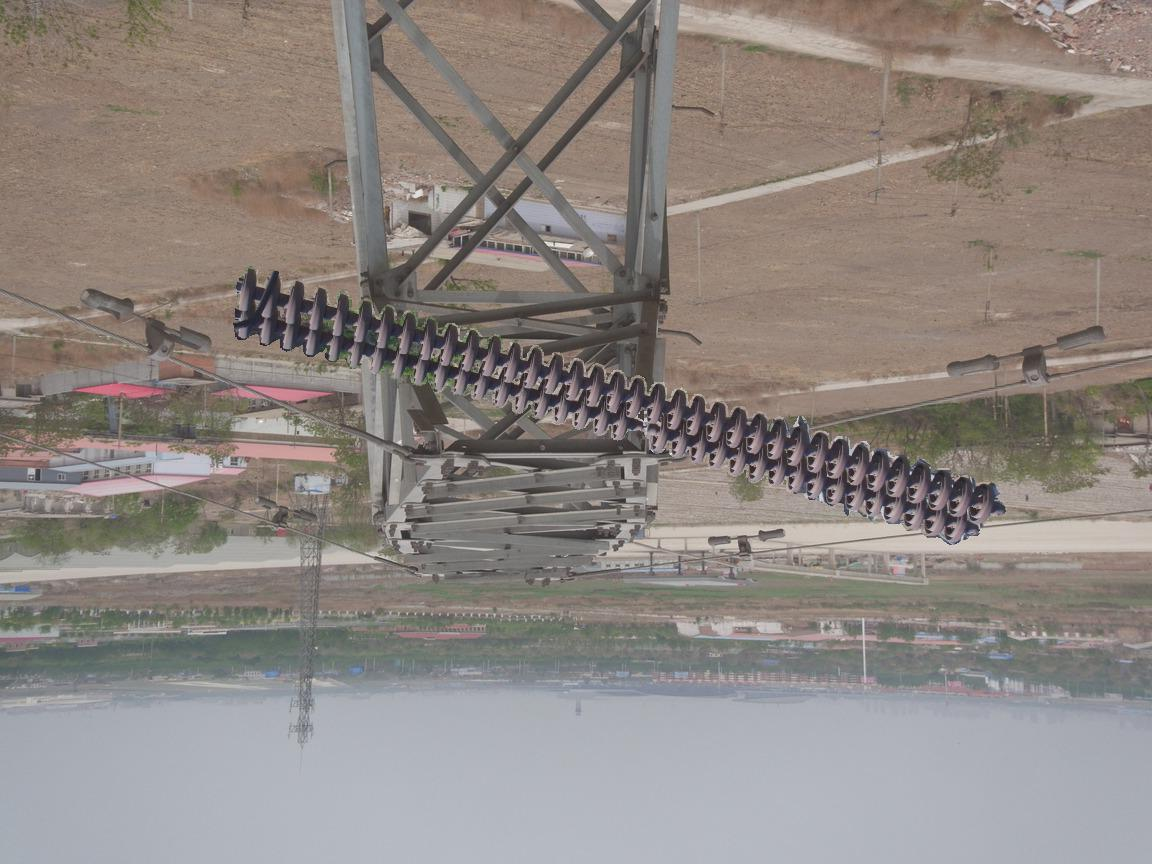insulator: (229, 265, 1004, 547)
insulator_stringdrop: (607, 404, 669, 457)
